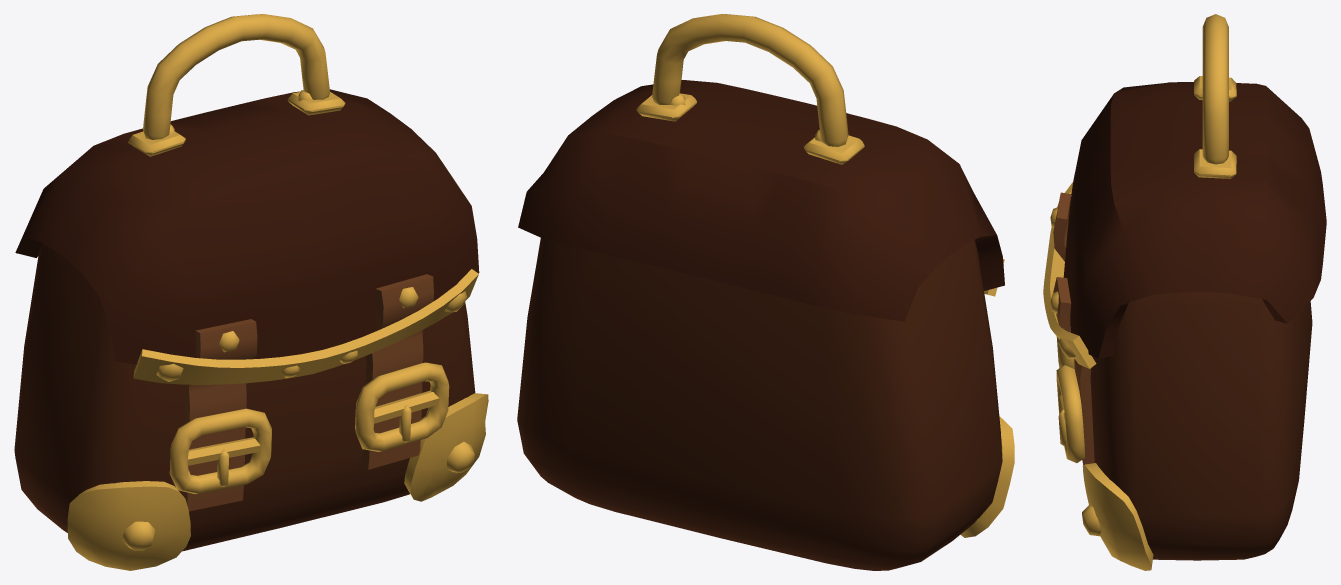
File: item_pouch_brass.glb
3 renders of one model, left to right at view 1: azimuth 30°, elevation 25°; view 2: azimuth 150°, elevation 25°; view 3: azimuth 270°, elevation 25°, orthographic. The views are drawn at different scales.
Visible parts, largest first — view 1: PouchBrass; view 2: PouchBrass; view 3: PouchBrass.
Boxes of the visible parts, left/top/right/bottom form: PouchBrass: left=14, top=14, right=488, bottom=570; PouchBrass: left=517, top=14, right=1014, bottom=570; PouchBrass: left=1043, top=14, right=1326, bottom=570.
Bounding box in the file's own units: 0.2705 × 0.3 × 0.1641.
